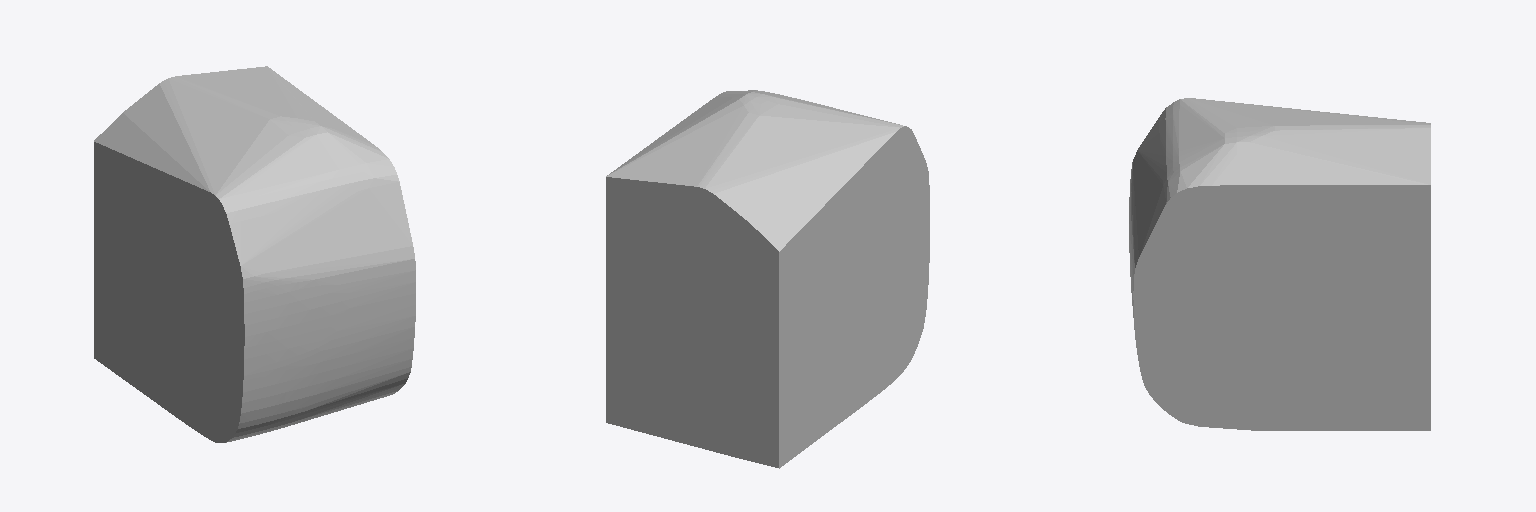
File: Multimeter_collision_8.obj
The picture shows the model from 3 angles: view 1: azimuth 30°, elevation 25°; view 2: azimuth 150°, elevation 25°; view 3: azimuth 270°, elevation 25°; orthographic projection.
Size of the model in its own units: 22.71 by 34.03 by 34.21.